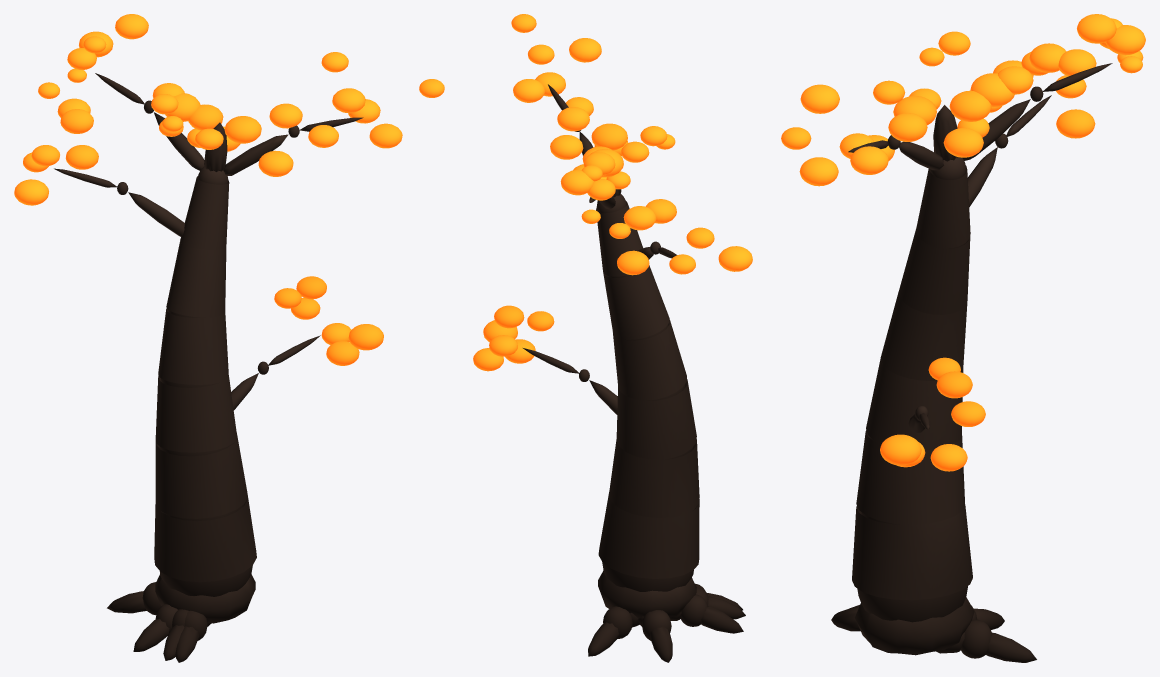
File: tree_c.glb
3 renders of one model, left to right at view 1: azimuth 30°, elevation 25°; view 2: azimuth 150°, elevation 25°; view 3: azimuth 270°, elevation 25°, orthographic. The views are drawn at different scales.
Visible parts, largest first — view 1: tree_c_trunk, tree_c_embers; view 2: tree_c_trunk, tree_c_embers; view 3: tree_c_trunk, tree_c_embers.
Part boxes in pixels (x1,y1,x2,y2): tree_c_trunk: (54,73,363,662); tree_c_embers: (14,14,444,365); tree_c_trunk: (523,84,745,662); tree_c_embers: (473,14,752,371); tree_c_trunk: (831,63,1112,662); tree_c_embers: (781,14,1145,471).
Size of the model in its own units: 6.17 by 9.7 by 4.98.
